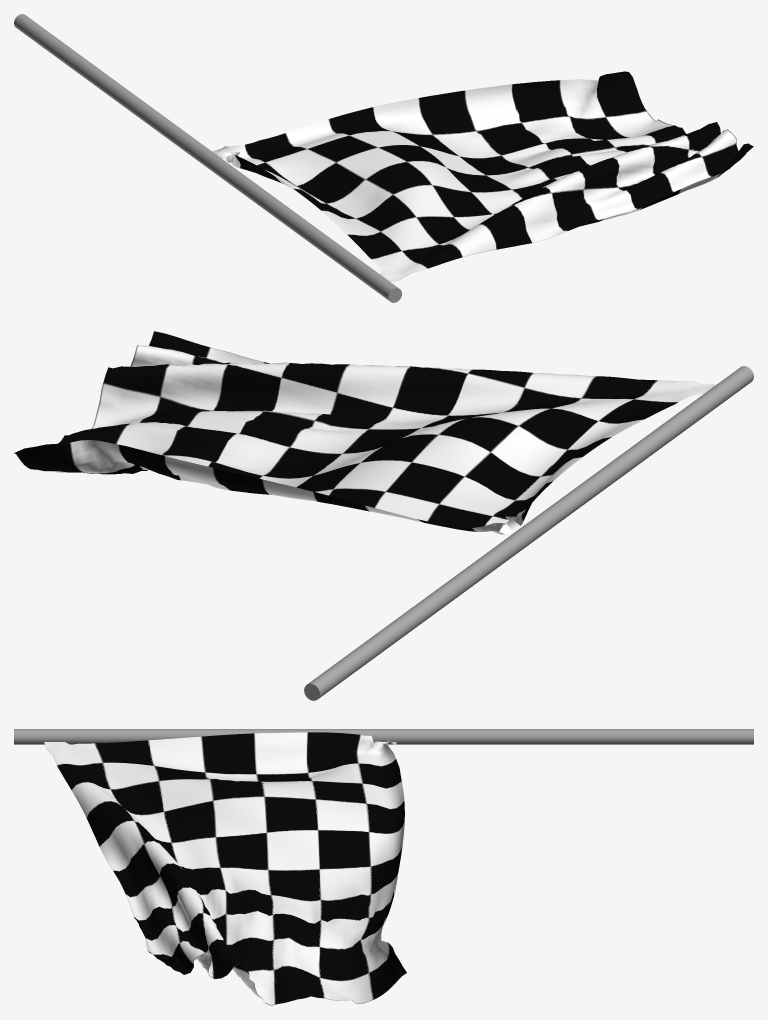
Rendered from StartingFlag.obj.
The picture shows the model from 3 angles, top to bottom: view 1: azimuth 30°, elevation 25°; view 2: azimuth 150°, elevation 25°; view 3: azimuth 270°, elevation 25°; orthographic projection. The views are drawn at different scales.
Visible parts, largest first — view 1: tr_flag; view 2: tr_flag; view 3: tr_flag.
Boxes of the visible parts, x1,y1,x2,y2 form: tr_flag: [14, 14, 753, 302]; tr_flag: [14, 331, 753, 700]; tr_flag: [14, 729, 753, 1005].
Size of the model in its own units: 35.98 by 5.66 by 52.5.
